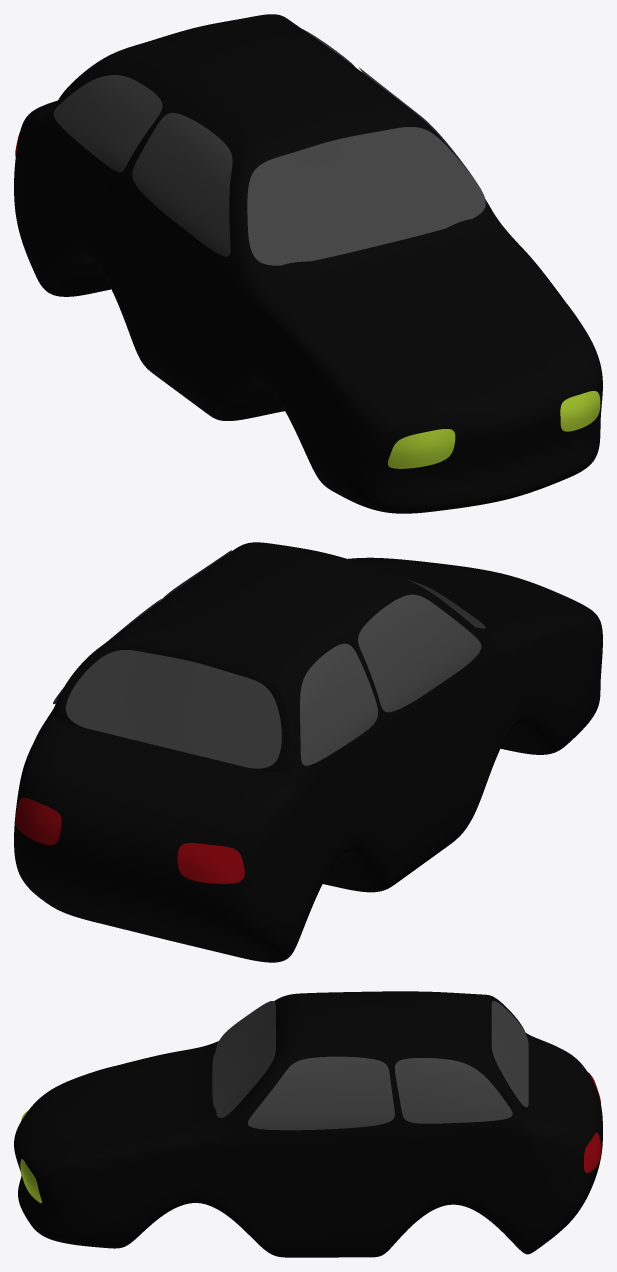
The model's file is carro 1 modelo.fbx.
The picture shows the model from 3 angles, top to bottom: view 1: azimuth 30°, elevation 25°; view 2: azimuth 150°, elevation 25°; view 3: azimuth 270°, elevation 25°; orthographic projection. The views are drawn at different scales.
Parts seen in each view (by area): view 1: Cube, Cube.001, Cube.004, Cube.005, Cube.007; view 2: Cube, Cube.006, Cube.004, Cube.005, Cube.008; view 3: Cube, Cube.002, Cube.003, Cube.001, Cube.006, Cube.008, Cube.007.
Part boxes in pixels (x1,y1,x2,y2): Cube: (14, 14, 602, 513); Cube.001: (247, 127, 485, 265); Cube.004: (132, 113, 232, 256); Cube.005: (53, 75, 162, 172); Cube.007: (388, 391, 600, 468); Cube: (14, 542, 602, 962); Cube.006: (65, 650, 281, 768); Cube.004: (358, 594, 481, 712); Cube.005: (300, 643, 377, 765); Cube.008: (15, 797, 244, 883); Cube: (14, 991, 602, 1257); Cube.002: (248, 1056, 394, 1130); Cube.003: (395, 1058, 512, 1123); Cube.001: (212, 1001, 275, 1117); Cube.006: (491, 1001, 528, 1107); Cube.008: (584, 1072, 600, 1172); Cube.007: (20, 1110, 41, 1203).
Bounding box in the file's own units: 200 × 206 × 522.
